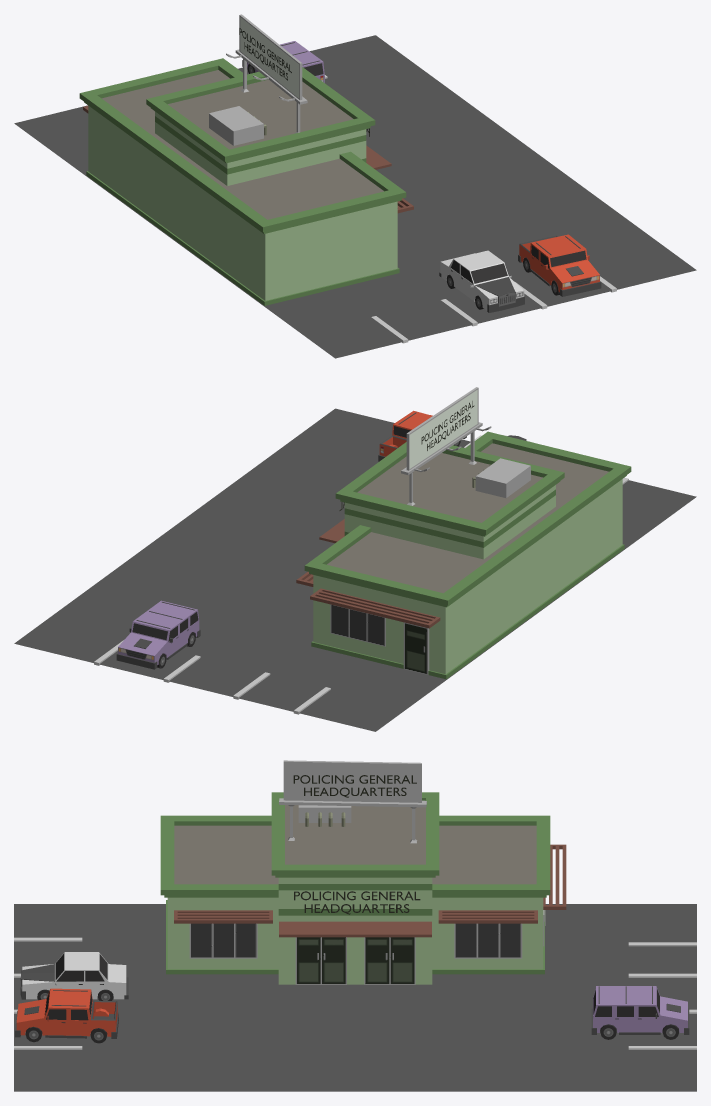
File: crime-security.gltf
3 views of the same model, one above another, from view 1: azimuth 30°, elevation 25°; view 2: azimuth 150°, elevation 25°; view 3: azimuth 270°, elevation 25° (orthographic). The views are drawn at different scales.
Parts seen in each view (by area): view 1: Building_Super Market_Cube.025, Road Tile_Plane.003, Vehicle_Pick up Truck_Cube.005, Vehicle_Car_Cube.050, Props_BillBoard_large_Cube.528, Props_Roof_prop_Cylinder.032, Vehicle_SUV_Cube.096; view 2: Road Tile_Plane.003, Building_Super Market_Cube.025, Vehicle_SUV_Cube.096, Props_BillBoard_large_Cube.528, Props_Roof_prop_Cylinder.032, Vehicle_Pick up Truck_Cube.005; view 3: Road Tile_Plane.003, Building_Super Market_Cube.025, Props_BillBoard_large_Cube.528, Vehicle_SUV_Cube.096, Vehicle_Pick up Truck_Cube.005, Vehicle_Car_Cube.050, Text, Props_Roof_prop_Cylinder.032, Text.001.
Boxes of the visible parts, <box> form: Building_Super Market_Cube.025: <box>79,58,413,305</box>; Road Tile_Plane.003: <box>14,35,696,358</box>; Vehicle_Pick up Truck_Cube.005: <box>518,234,601,296</box>; Vehicle_Car_Cube.050: <box>439,250,524,312</box>; Props_BillBoard_large_Cube.528: <box>226,14,307,133</box>; Props_Roof_prop_Cylinder.032: <box>209,106,266,145</box>; Vehicle_SUV_Cube.096: <box>242,41,324,82</box>; Road Tile_Plane.003: <box>14,408,696,731</box>; Building_Super Market_Cube.025: <box>296,431,631,679</box>; Vehicle_SUV_Cube.096: <box>116,600,200,669</box>; Props_BillBoard_large_Cube.528: <box>401,387,491,505</box>; Props_Roof_prop_Cylinder.032: <box>472,458,530,497</box>; Vehicle_Pick up Truck_Cube.005: <box>378,410,466,461</box>; Road Tile_Plane.003: <box>14,904,696,1091</box>; Building_Super Market_Cube.025: <box>160,792,566,984</box>; Props_BillBoard_large_Cube.528: <box>279,760,426,843</box>; Vehicle_SUV_Cube.096: <box>591,986,689,1039</box>; Vehicle_Pick up Truck_Cube.005: <box>15,988,118,1043</box>; Vehicle_Car_Cube.050: <box>20,952,128,1000</box>; Text: <box>294,891,420,914</box>; Props_Roof_prop_Cylinder.032: <box>298,805,351,826</box>; Text.001: <box>293,775,416,797</box>.
Size of the model in its own units: 26.24 by 12.44 by 40.
18 materials, 15 textured.
